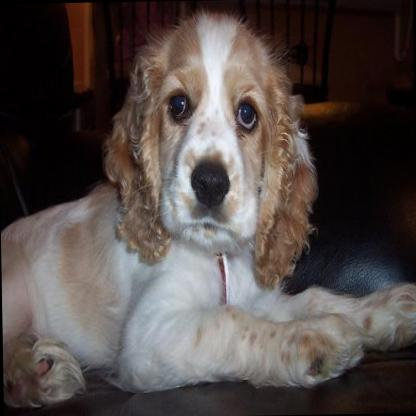cocker_spaniel: (0, 5, 416, 416)
